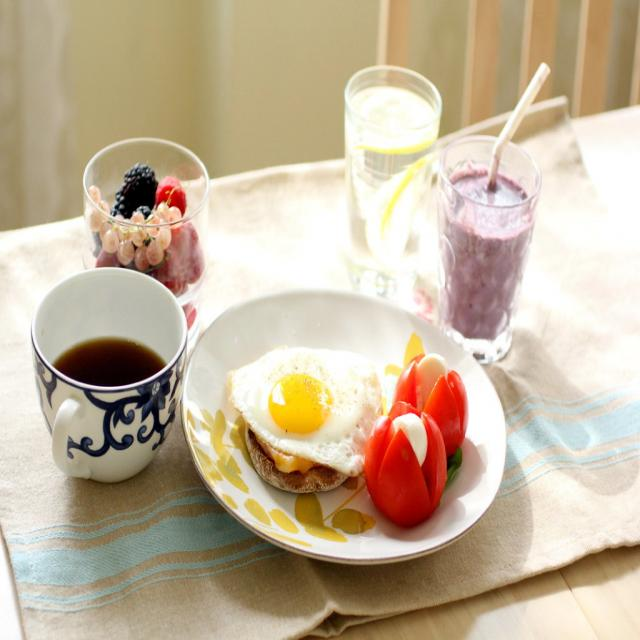Tea: (52, 340, 166, 386)
